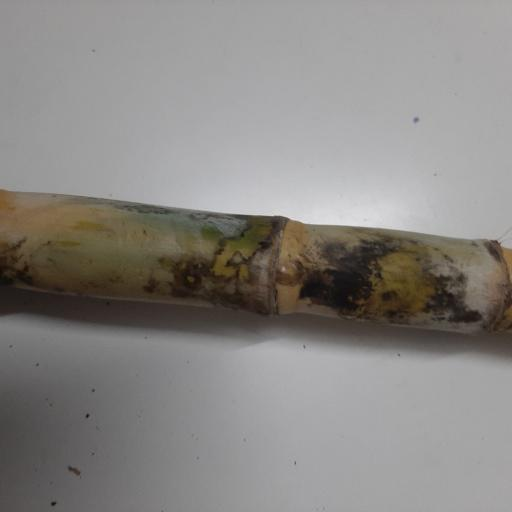Bud: (277, 262, 301, 284)
